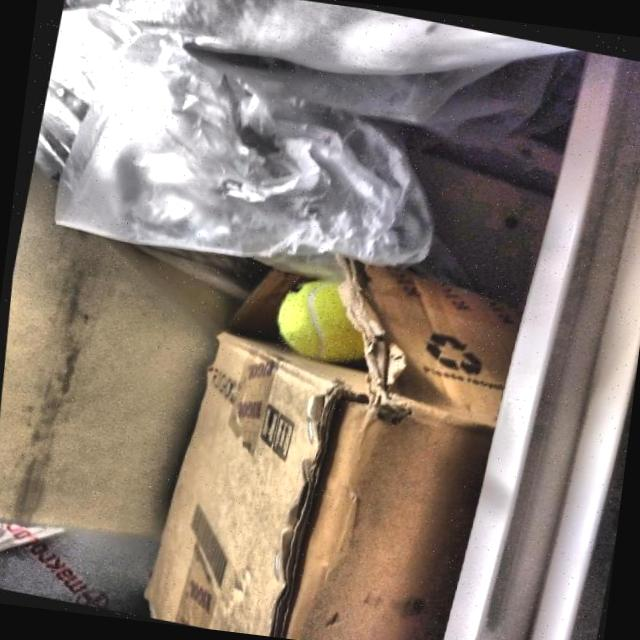tennis-ball: (271, 274, 369, 364)
